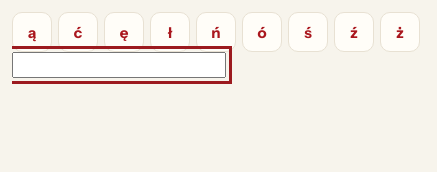
Test case: DiacriticsBar › keeps focus in the input after pointer insertion
Click the button named "Insert ł" at (170, 32), box x1=150 y1=12 x2=190 y2=52
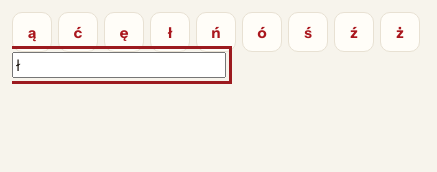
Expected: the field named "Polish answer" holds "ł", x1=12 y1=52 x2=226 y2=78
